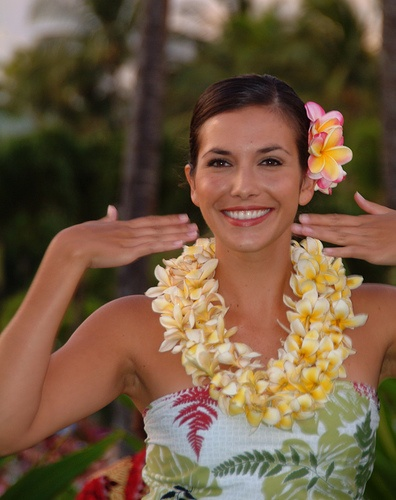head: (182, 75, 313, 253)
person: (1, 72, 396, 500)
